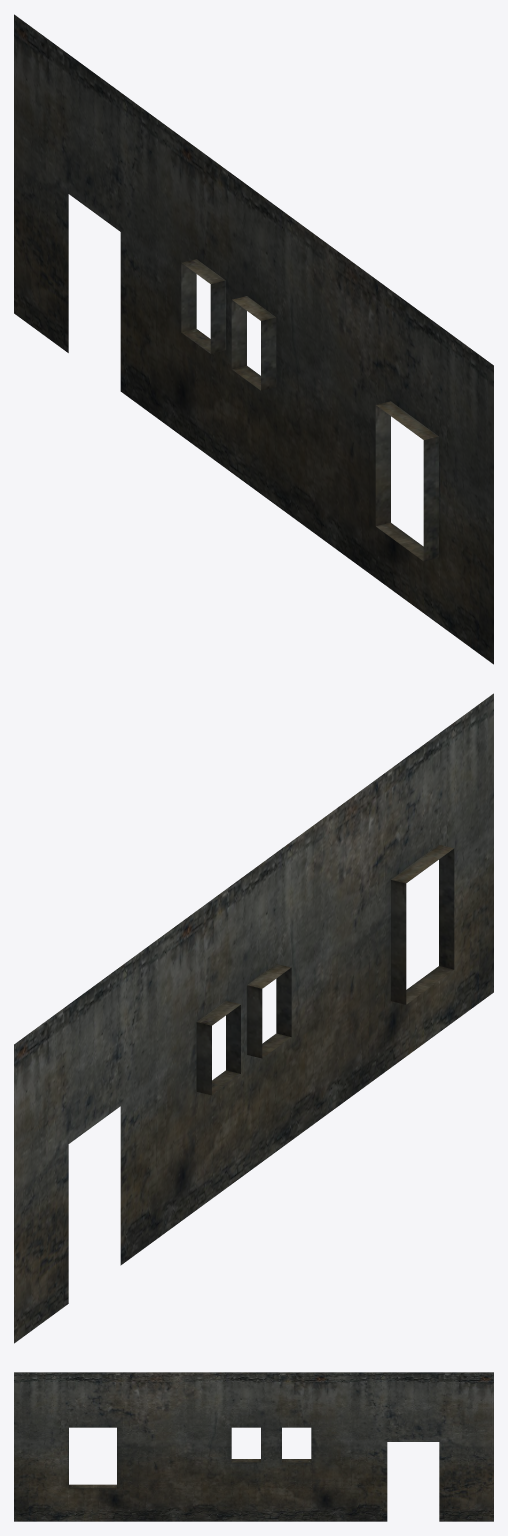
Rendered from Wall_02.FBX.
3 views of the same model, one above another, from view 1: azimuth 30°, elevation 25°; view 2: azimuth 150°, elevation 25°; view 3: azimuth 270°, elevation 25° (orthographic). The views are drawn at different scales.
Visible parts, largest first — view 1: Wall_02; view 2: Wall_02; view 3: Wall_02.
Boxes of the visible parts, left/top/right/bottom form: Wall_02: left=14, top=14, right=493, bottom=664; Wall_02: left=14, top=693, right=493, bottom=1343; Wall_02: left=14, top=1372, right=493, bottom=1521.
Size of the model in its own units: 27.27 by 511 by 1487.
